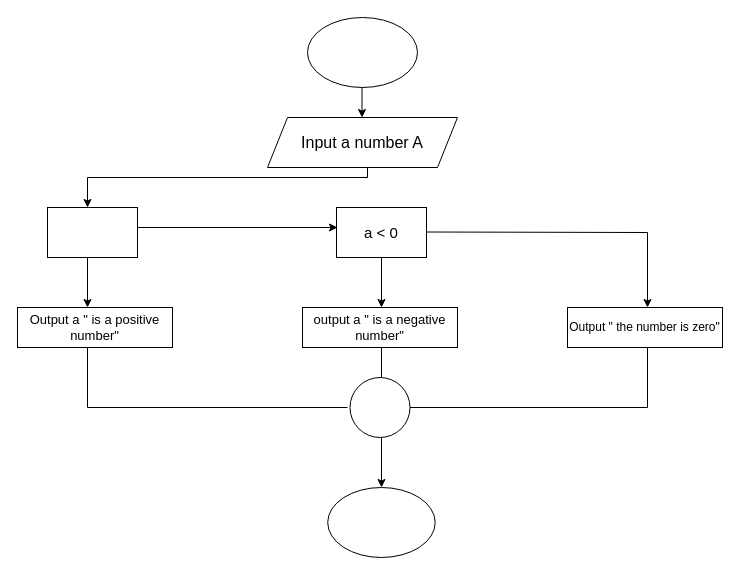
Some shapes in this 740 by 575 pixel diagram are drawn without their labels. Each missing label, with the centre of its shape:
a > 0: the point at 92,232
START: the point at 362,52
STOP: the point at 381,522
